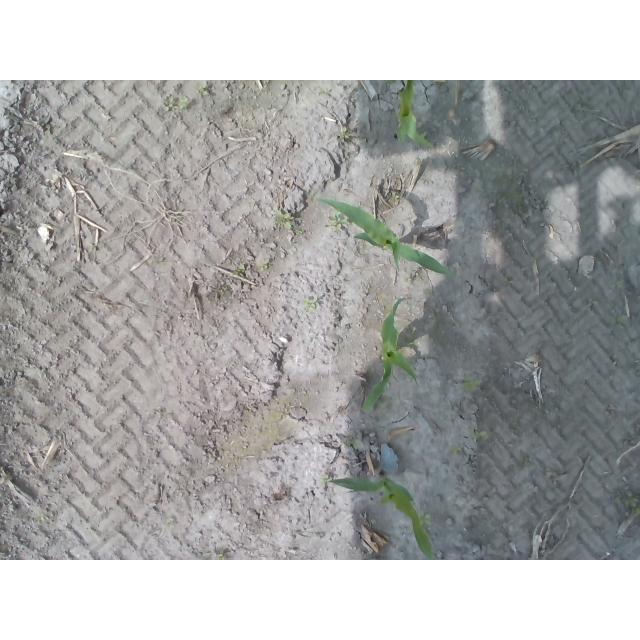Maize: (316, 196, 449, 276), (327, 470, 442, 560), (356, 295, 424, 420), (397, 80, 432, 148)
Weeds: (161, 94, 187, 112), (275, 214, 294, 231), (622, 493, 640, 509), (418, 512, 435, 526), (464, 378, 482, 391), (304, 298, 319, 311), (196, 84, 209, 96), (329, 219, 343, 230), (234, 264, 246, 274), (340, 126, 349, 139), (474, 431, 486, 439), (215, 553, 226, 560), (260, 261, 269, 269)
